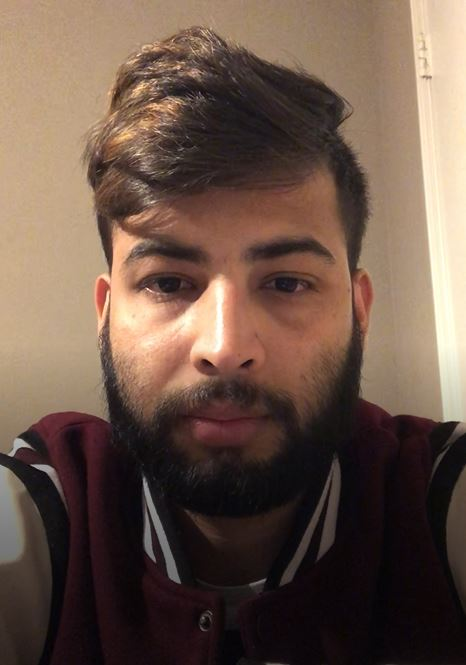Not Sleeping: (111, 243, 351, 320)
